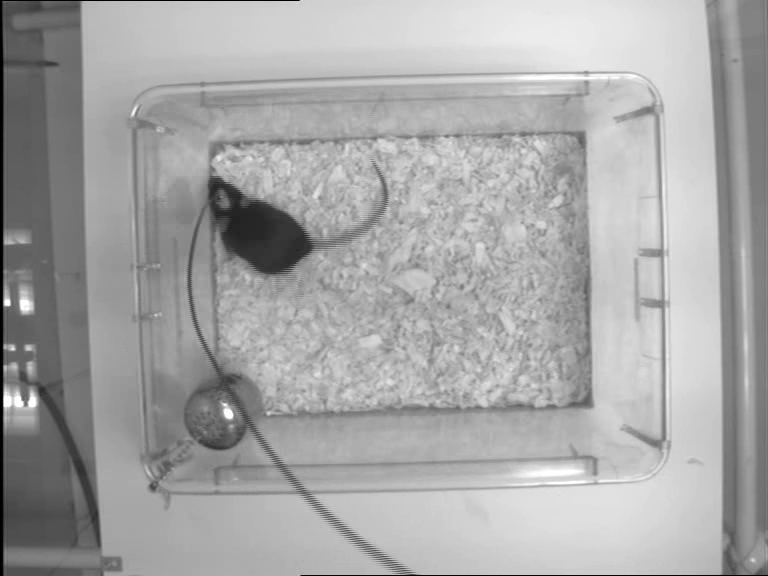mice: (205, 159, 391, 272)
